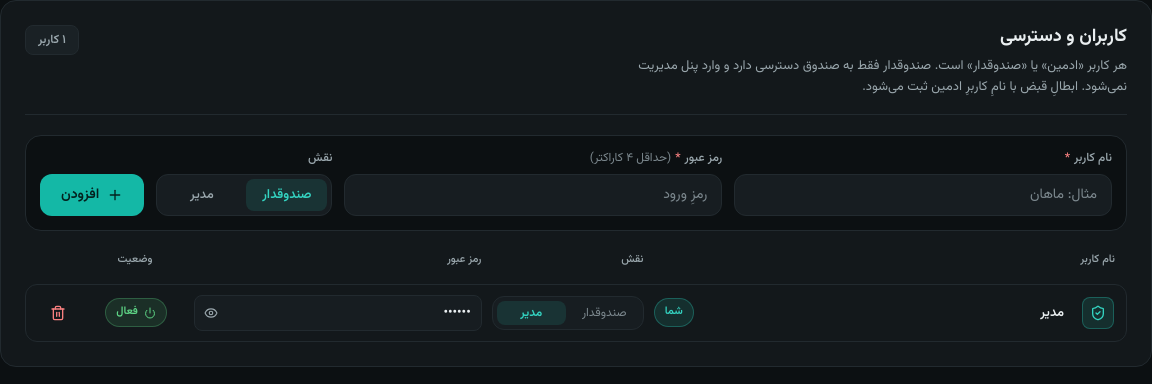
it: UsersManager — کادرِ رمز › 🔴 خالی کردنِ کادر، مقدارِ نمایشی را هم به رمزِ قبلی برمی‌گرداند
Clear the password field named "رمزِ مدیر". click: (338, 313)
box: 194,295 -> 482,331
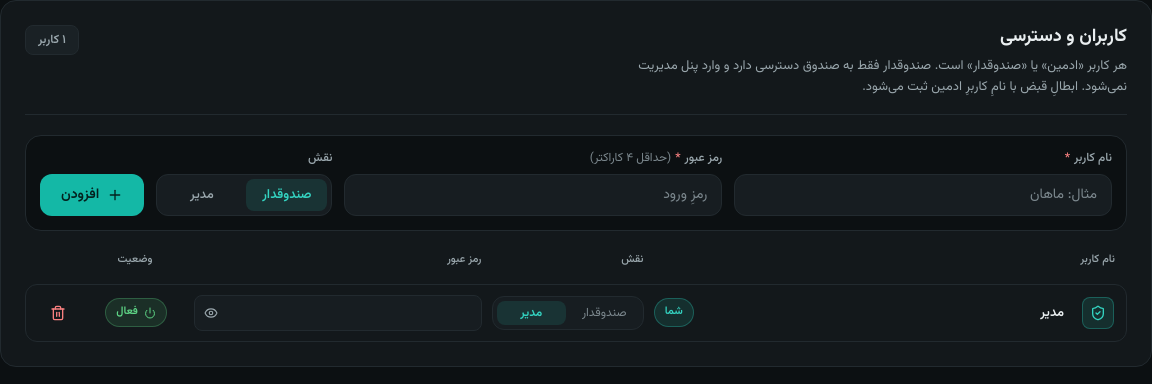
Leave the password field named "رمزِ مدیر", box 194,295 -> 482,331
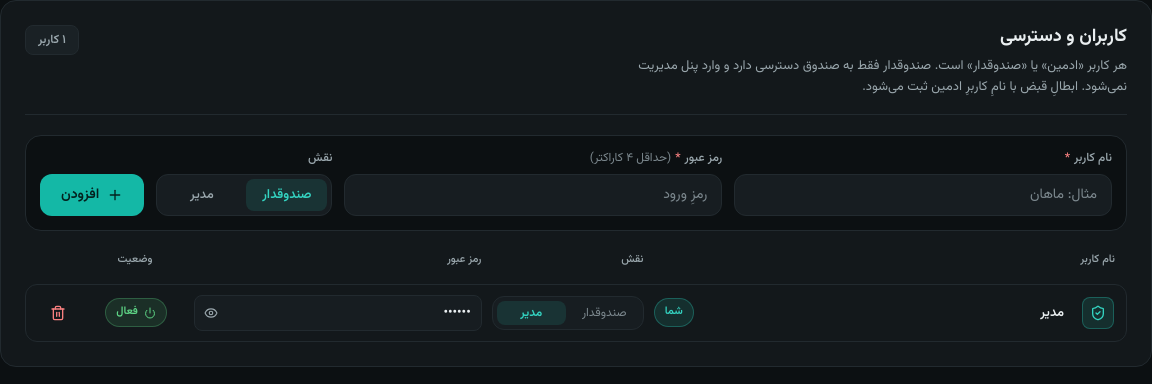
Check: the password field named "رمزِ مدیر" holds "yatash", box 194,295 -> 482,331
